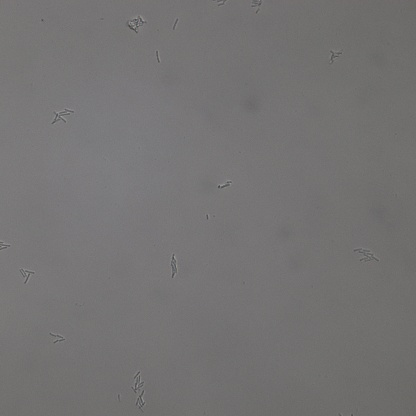R(colony): (354, 247, 379, 263), (167, 253, 182, 278), (52, 107, 74, 124), (126, 15, 146, 33), (131, 368, 145, 391), (134, 393, 148, 413), (328, 50, 343, 64), (21, 270, 35, 284), (51, 333, 66, 344), (250, 1, 262, 13), (218, 181, 233, 189), (1, 242, 11, 252)
